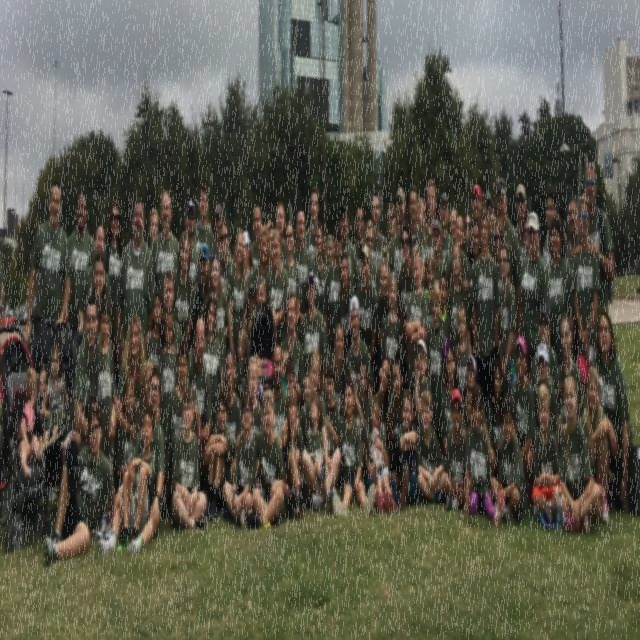pessoa: (96, 363, 166, 562), (42, 398, 117, 572), (590, 305, 632, 516), (25, 179, 73, 352), (64, 292, 117, 448), (348, 361, 397, 518), (235, 388, 286, 530), (298, 348, 342, 512), (364, 350, 408, 512), (116, 196, 155, 377), (558, 372, 600, 538), (462, 380, 506, 530), (332, 371, 376, 520), (574, 160, 616, 314), (472, 211, 501, 427), (116, 399, 156, 555), (170, 378, 208, 536), (116, 316, 162, 446), (518, 209, 552, 382), (90, 295, 118, 487), (185, 316, 213, 504), (573, 193, 600, 384), (164, 339, 196, 498), (223, 386, 258, 528), (489, 390, 526, 523), (198, 252, 230, 402), (546, 211, 576, 370), (460, 352, 498, 477), (531, 380, 562, 530), (66, 185, 96, 336), (511, 334, 537, 508), (582, 366, 610, 526), (296, 267, 330, 398), (78, 224, 112, 352), (212, 344, 242, 487), (496, 176, 522, 341), (204, 383, 232, 528), (343, 292, 374, 420), (554, 311, 586, 433), (443, 386, 473, 514), (416, 386, 447, 506), (151, 188, 180, 314), (426, 283, 446, 459), (530, 301, 560, 417), (406, 244, 428, 402), (104, 198, 125, 360), (144, 266, 182, 354), (396, 222, 416, 388), (158, 305, 179, 461), (201, 293, 224, 435), (16, 366, 44, 482), (226, 227, 248, 372), (355, 241, 378, 379), (440, 332, 462, 475), (447, 241, 472, 366), (81, 250, 112, 350), (498, 245, 518, 400), (305, 390, 332, 500), (265, 226, 289, 348), (413, 337, 433, 483), (41, 338, 68, 446), (280, 290, 305, 406), (322, 226, 343, 364), (381, 270, 403, 400), (386, 356, 406, 491), (270, 342, 290, 476), (532, 340, 558, 442), (446, 212, 472, 314), (116, 374, 138, 490), (172, 228, 194, 344), (486, 356, 506, 482), (190, 241, 212, 353), (398, 386, 418, 506), (282, 220, 302, 339), (208, 202, 232, 300), (336, 249, 356, 365), (293, 209, 311, 332), (132, 358, 154, 458), (446, 212, 471, 300), (303, 183, 328, 267), (308, 220, 328, 320), (338, 204, 359, 298), (369, 187, 388, 290), (423, 176, 444, 266), (454, 303, 472, 404), (469, 220, 482, 358), (286, 388, 305, 482), (358, 218, 380, 298), (388, 184, 406, 281), (324, 357, 340, 462), (375, 246, 390, 356), (251, 226, 272, 304), (331, 322, 348, 418), (464, 183, 484, 264), (352, 358, 370, 447), (193, 183, 214, 257), (145, 291, 164, 370), (246, 354, 264, 434), (184, 200, 200, 290), (233, 328, 250, 406), (284, 353, 302, 426), (542, 188, 558, 270), (566, 195, 582, 276), (415, 195, 428, 292), (34, 365, 50, 443), (431, 218, 448, 290), (437, 270, 453, 346), (218, 220, 234, 296), (248, 202, 264, 271), (514, 182, 527, 266), (492, 217, 506, 294), (244, 280, 258, 356), (439, 192, 453, 266), (424, 253, 435, 341), (352, 205, 366, 273), (242, 230, 254, 302), (253, 352, 266, 418), (383, 202, 398, 258), (276, 200, 288, 270), (408, 182, 418, 248), (148, 206, 160, 255), (0, 246, 5, 352), (266, 212, 274, 271), (462, 212, 472, 257), (521, 214, 531, 258), (281, 344, 290, 392), (256, 273, 267, 306), (486, 196, 496, 228), (326, 234, 334, 268)
